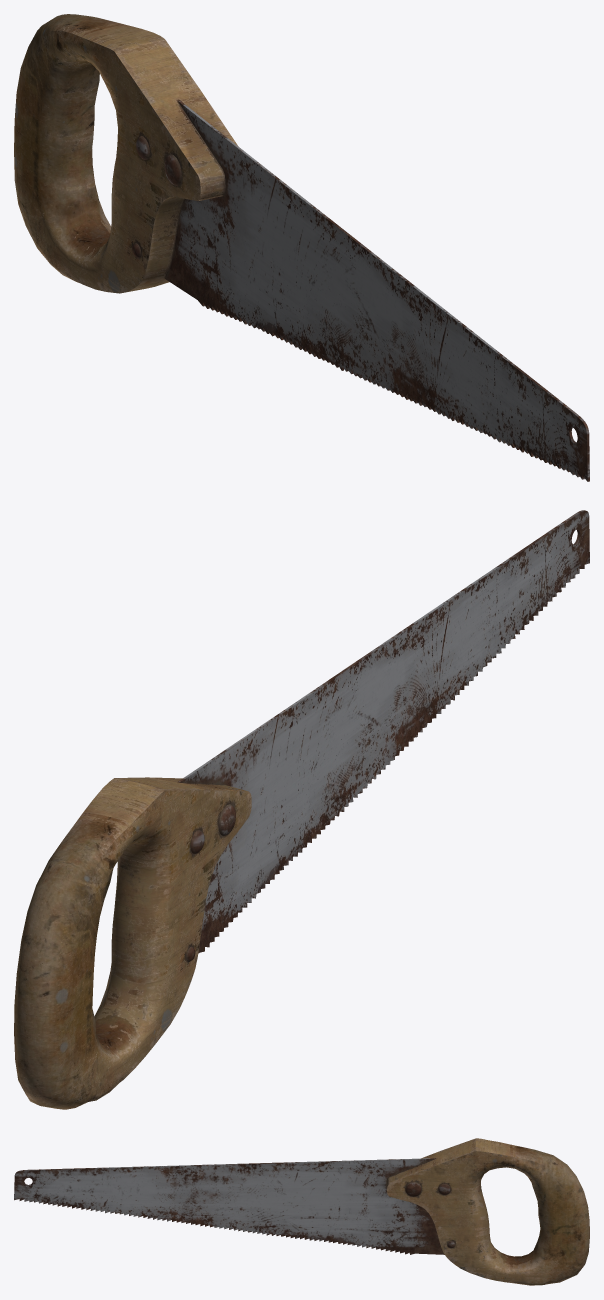
File: handsaw_wood.glb
The picture shows the model from 3 angles, top to bottom: view 1: azimuth 30°, elevation 25°; view 2: azimuth 150°, elevation 25°; view 3: azimuth 270°, elevation 25°; orthographic projection. The views are drawn at different scales.
Visible parts, largest first — view 1: handsaw_wood; view 2: handsaw_wood; view 3: handsaw_wood.
Boxes of the visible parts, x1,y1,x2,y2 form: handsaw_wood: [14, 14, 589, 481]; handsaw_wood: [14, 510, 589, 1109]; handsaw_wood: [14, 1138, 589, 1285].
Size of the model in its own units: 0.0408 by 0.1665 by 0.633.
Materials: 1 (1 with a texture image).
